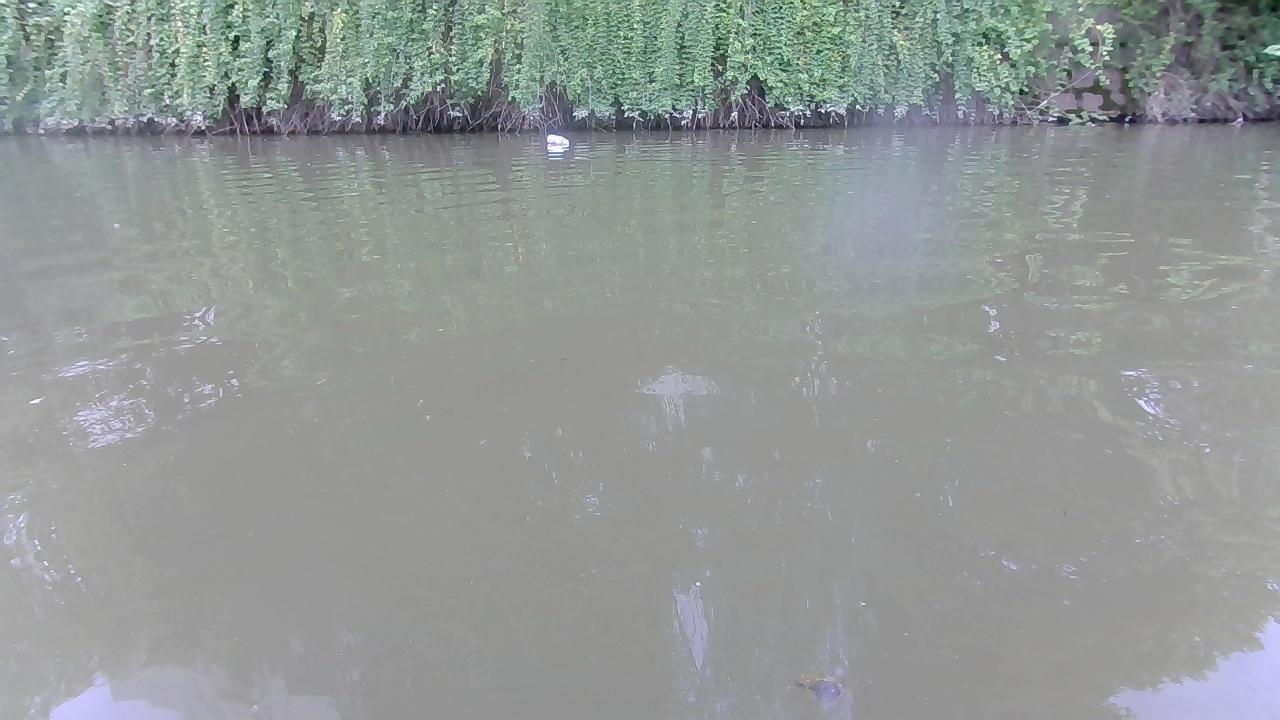bottle: (541, 132, 575, 147)
